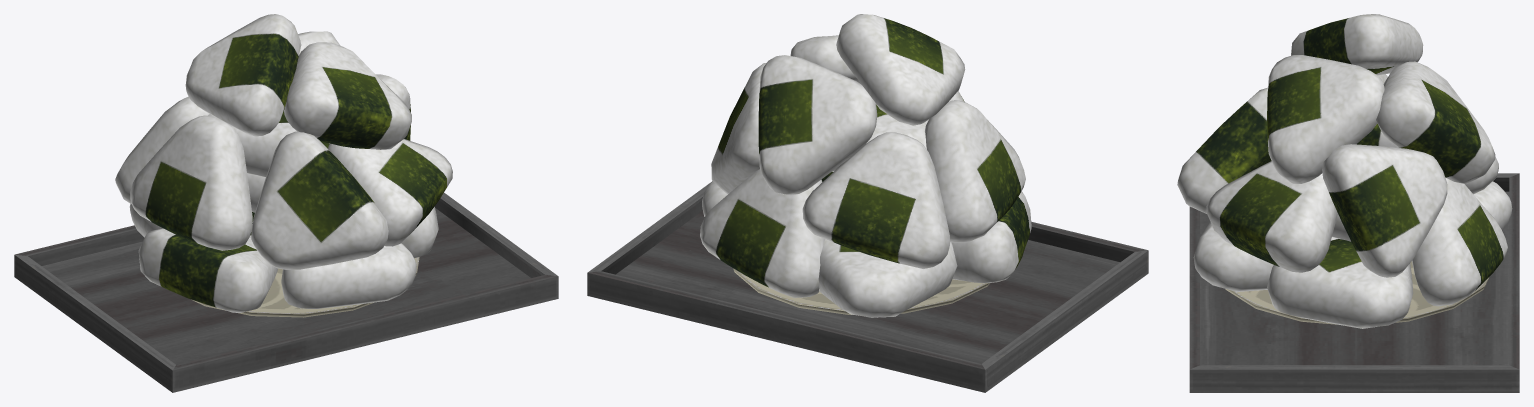
File: a_t06_g10_obj_dish.gltf
3 views of the same model, side by side, from view 1: azimuth 30°, elevation 25°; view 2: azimuth 150°, elevation 25°; view 3: azimuth 270°, elevation 25° (orthographic). The views are drawn at different scales.
Visible parts, largest first — view 1: um_a_t06_g10_obj_dish_model_a_t06_g10_obj_dish_modelShape:a_ (×2); view 2: um_a_t06_g10_obj_dish_model_a_t06_g10_obj_dish_modelShape:a_ (×2); view 3: um_a_t06_g10_obj_dish_model_a_t06_g10_obj_dish_modelShape:a_ (×2).
Boxes of the visible parts, x1=… form: um_a_t06_g10_obj_dish_model_a_t06_g10_obj_dish_modelShape:a_ (×2): x1=14, y1=14, x2=558, y2=392; um_a_t06_g10_obj_dish_model_a_t06_g10_obj_dish_modelShape:a_ (×2): x1=587, y1=14, x2=1148, y2=392; um_a_t06_g10_obj_dish_model_a_t06_g10_obj_dish_modelShape:a_ (×2): x1=1177, y1=14, x2=1519, y2=392.
Size of the model in its own units: 0.4501 by 0.2965 by 0.3317.
2 materials, 2 textured.
